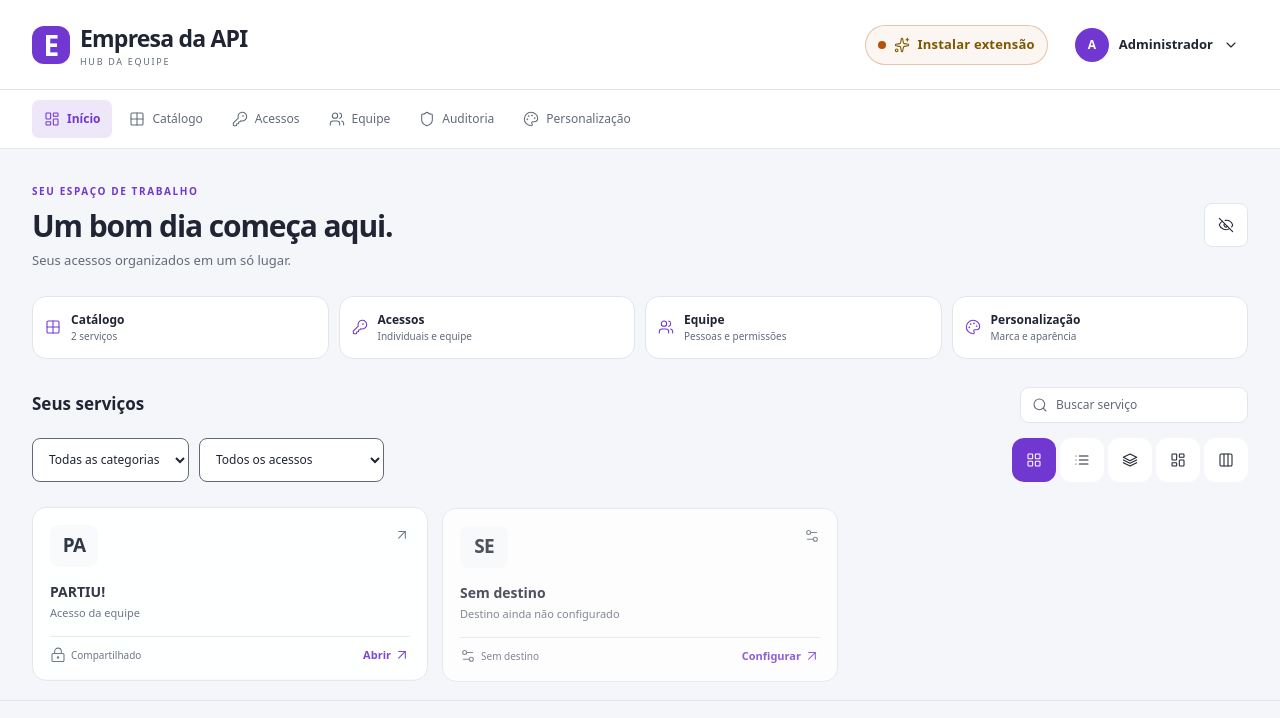
replays account-only preference changes after a network outage
The width and height of the screenshot is (1280, 718).
Expected: the text "Empresa da API" is shown, [80,22,247,54]
Step 1. Click the button named "Lista" → (1082, 460), box [1060,438,1104,482]
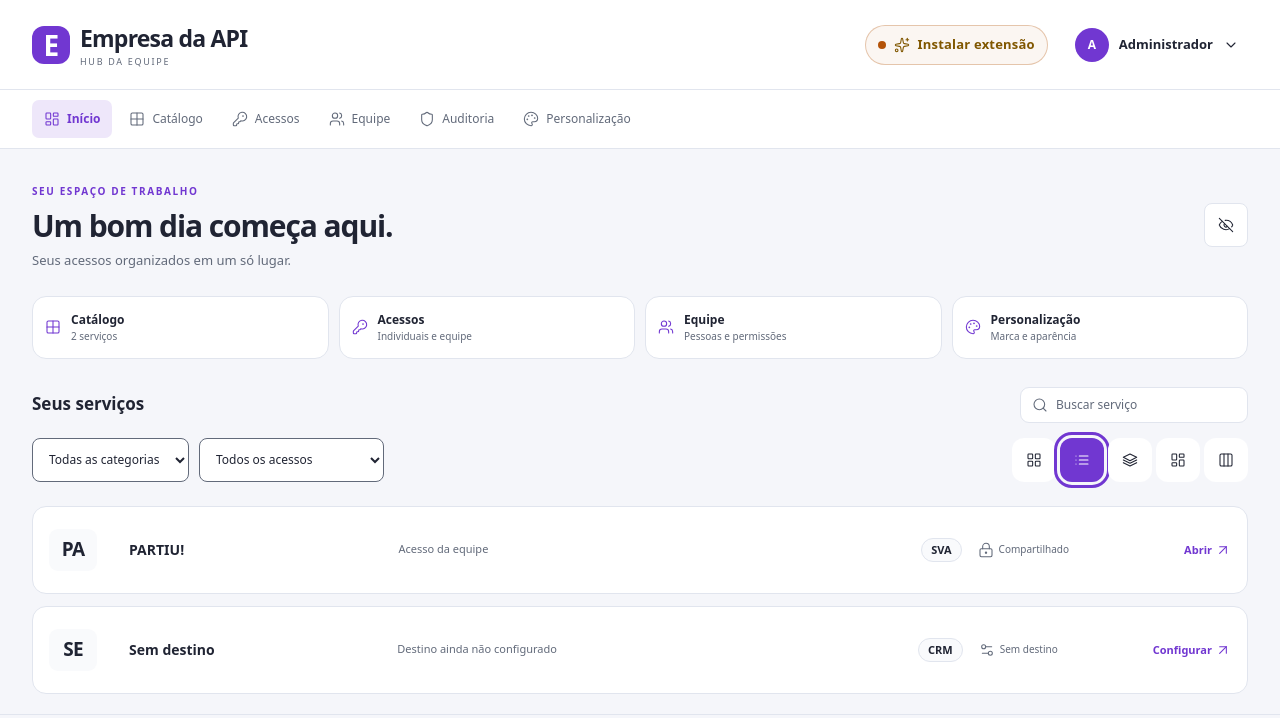
Now the element with class "hb-service-list" is shown, box [32,506,1248,694]
Step 2. Click the button named "Ocultar atalhos" → (1226, 225), box [1204,203,1248,247]
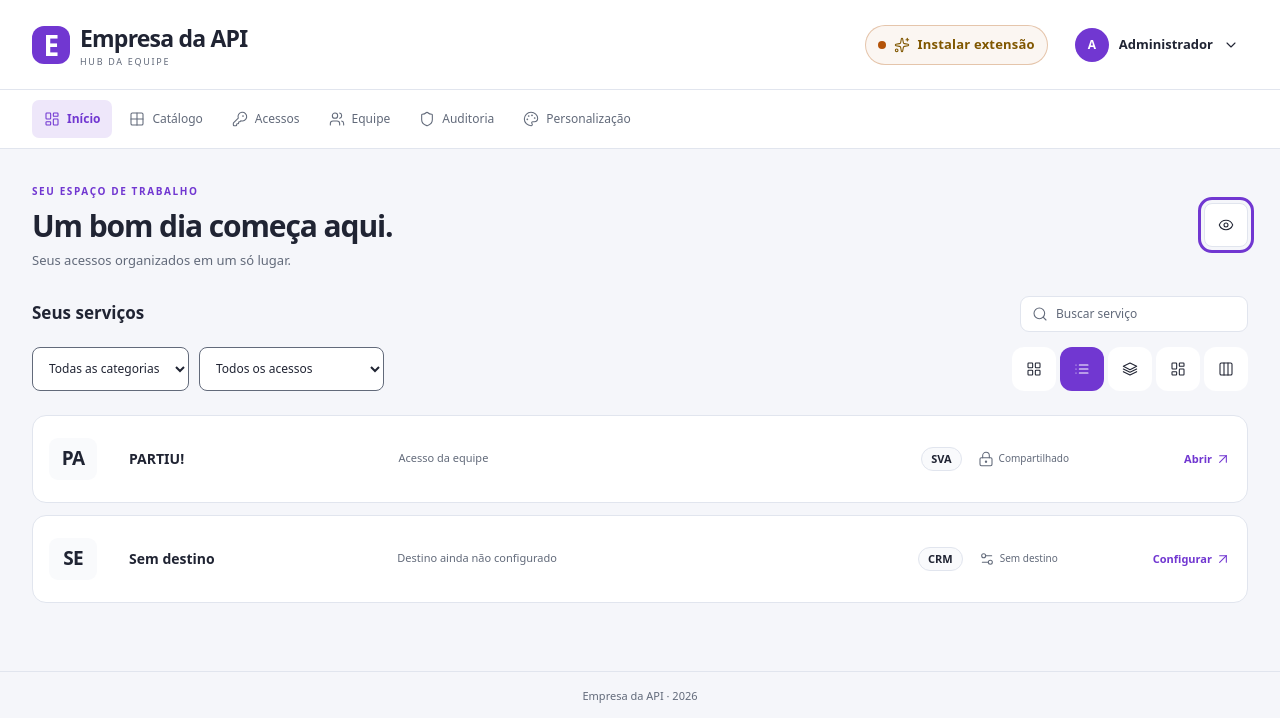
Now the element with class "hb-shortcuts" is gone
